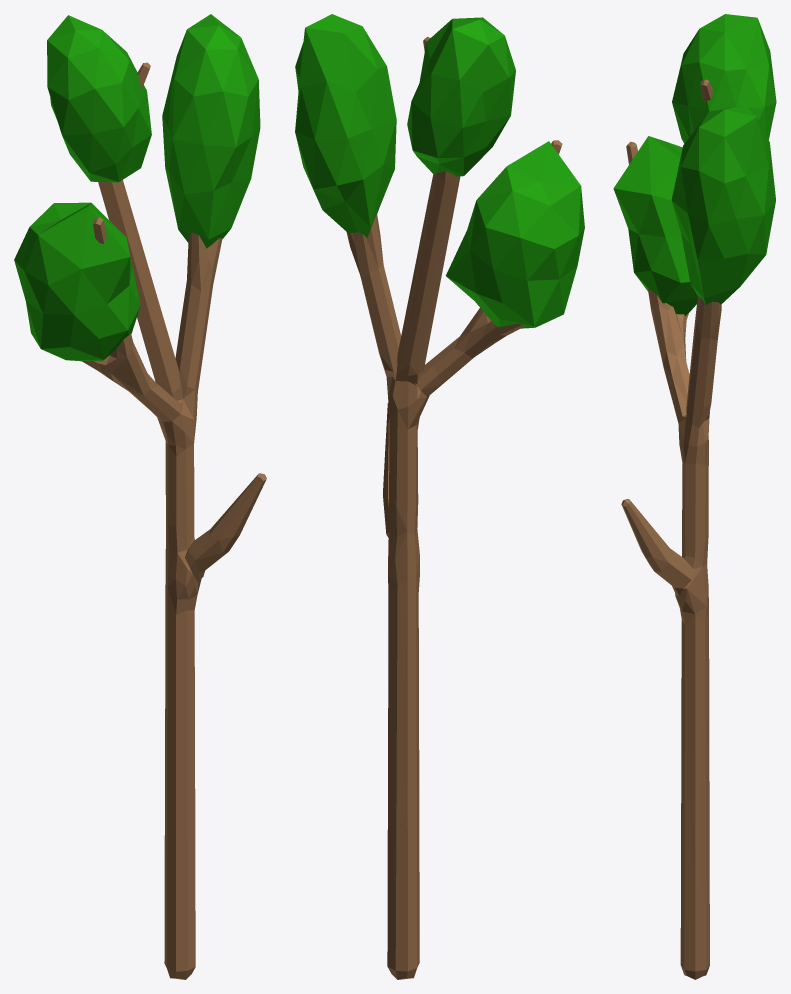
File: Tree_10.fbx
The picture shows the model from 3 angles, left to right: view 1: azimuth 30°, elevation 25°; view 2: azimuth 150°, elevation 25°; view 3: azimuth 270°, elevation 25°; orthographic projection. The views are drawn at different scales.
Visible parts, largest first — view 1: Tree10_mesh; view 2: Tree10_mesh; view 3: Tree10_mesh.
Boxes of the visible parts, x1,y1,x2,y2 form: Tree10_mesh: (14,14,266,979); Tree10_mesh: (295,14,584,979); Tree10_mesh: (613,14,776,979).
Size of the model in its own units: 131 by 478 by 76.48.
